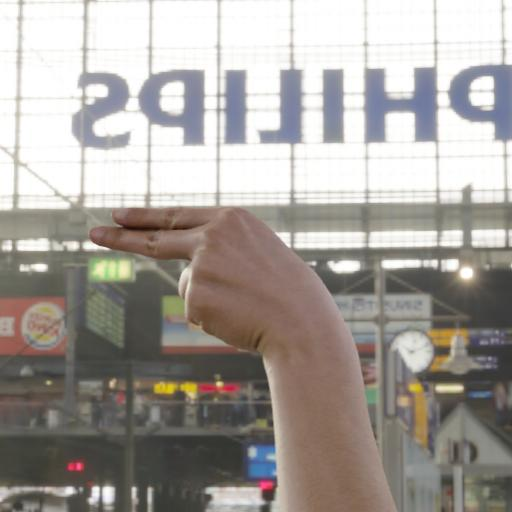H: (75, 184, 377, 428)
